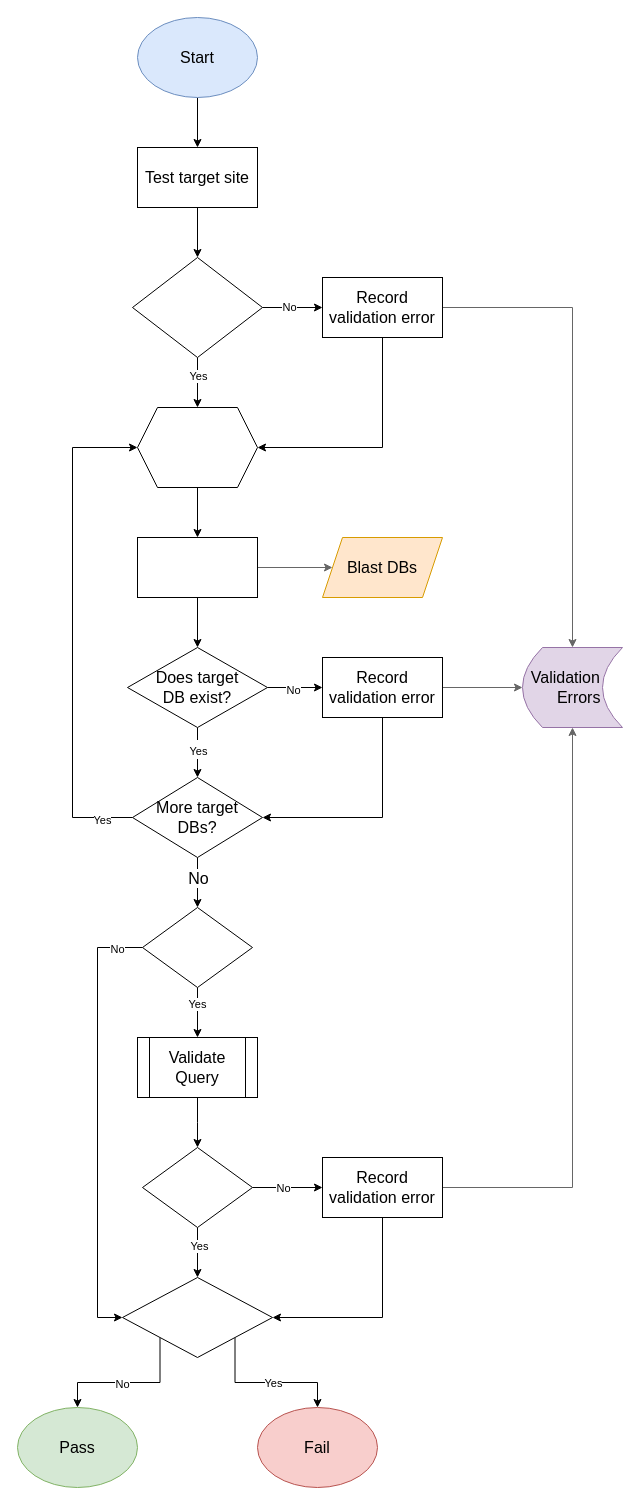
Some shapes in this 640 by 1505 pixel diagram are drawn without their labels. Here are the shapes that lost their labels. From the top down, the centre of each, then its label:
(197,307): Is target site valid?
(197,447): For each target DB
(197,567): Test target DB exists
(197,947): Is query present?
(197,1187): Is query valid?
(197,1317): Are there validation errors?
